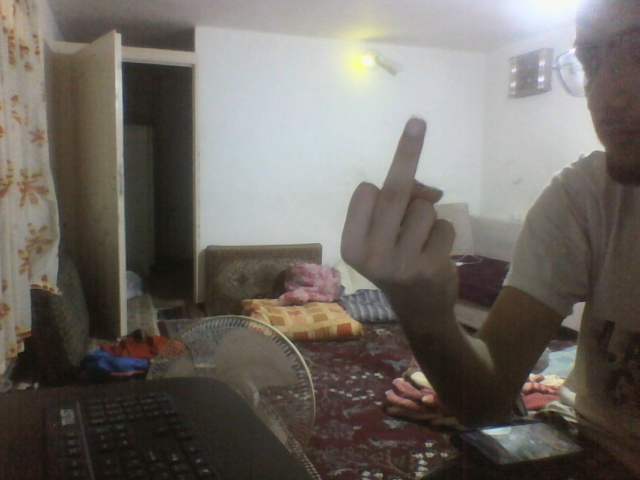fuck: (338, 118, 463, 314)
sorat: (573, 1, 639, 185)
